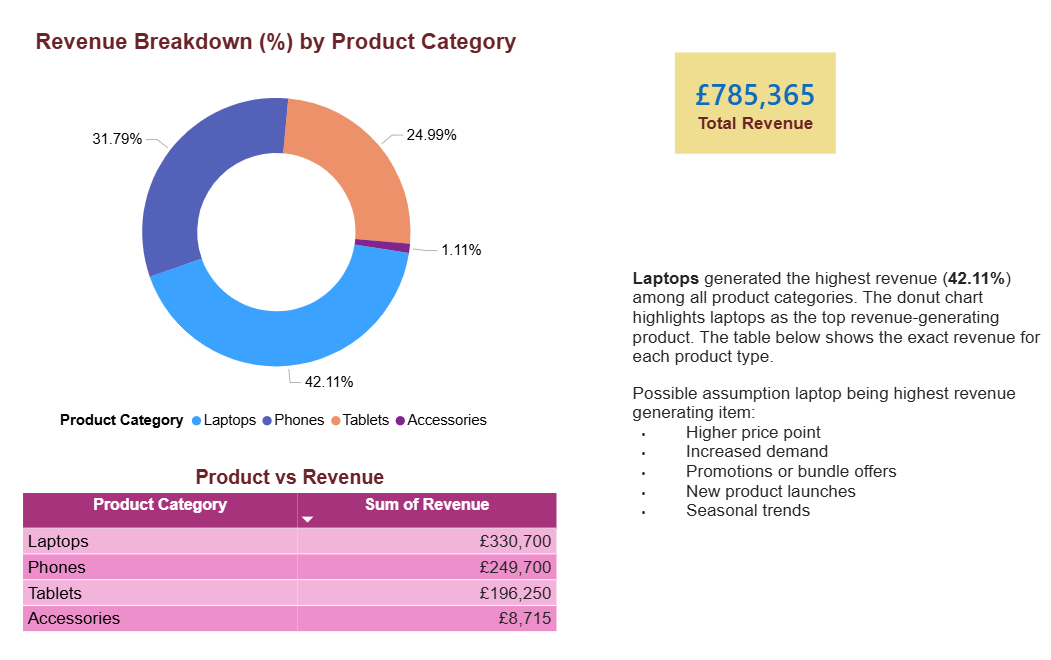

The page's visual inventory and layout, read from the dashboard file:
{"tool":"powerbi","page":{"name":"Which product category generated the most revenue?","canvas":[1280,720],"ordinal":2},"visuals":[{"type":"donutChart","title":"Revenue by Product Category","fields":{"Y":["Sum(RR-PRAC4 - retail_sales_q1_2025_large.Revenue)"],"Category":["RR-PRAC4 - retail_sales_q1_2025_large.Product Category"]},"box":[0,0,846.5,487],"z":0},{"type":"tableEx","title":"Product vs Revenue","fields":{"Values":["RR-PRAC4 - retail_sales_q1_2025_large.Product Category","Sum(RR-PRAC4 - retail_sales_q1_2025_large.Revenue)"]},"box":[99.4,525.1,591.4,195.5],"z":1000},{"type":"cardVisual","title":"Total Revenue","fields":{"Data":["Sum(RR-PRAC4 - retail_sales_q1_2025_large.Revenue)"]},"box":[828.2,53,185.5,120.9],"z":2000},{"type":"textbox","box":[781.9,288.2,463.8,318],"z":3000}]}

Visuals, with their boxes on the page's 1280x720 design canvas (x1, y1, x2, y2). These are canvas units, not pixel positions in the 1051x660 screenshot, which may show the page scaled, cropped or inside an application window:
"Revenue by Product Category" donutChart: <region>0, 0, 846, 487</region>
"Product vs Revenue" tableEx: <region>99, 525, 691, 721</region>
"Total Revenue" cardVisual: <region>828, 53, 1014, 174</region>
textbox: <region>782, 288, 1246, 606</region>
